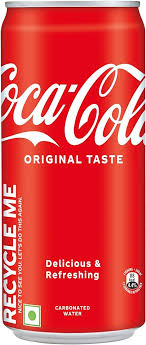can: (1, 1, 144, 343)
